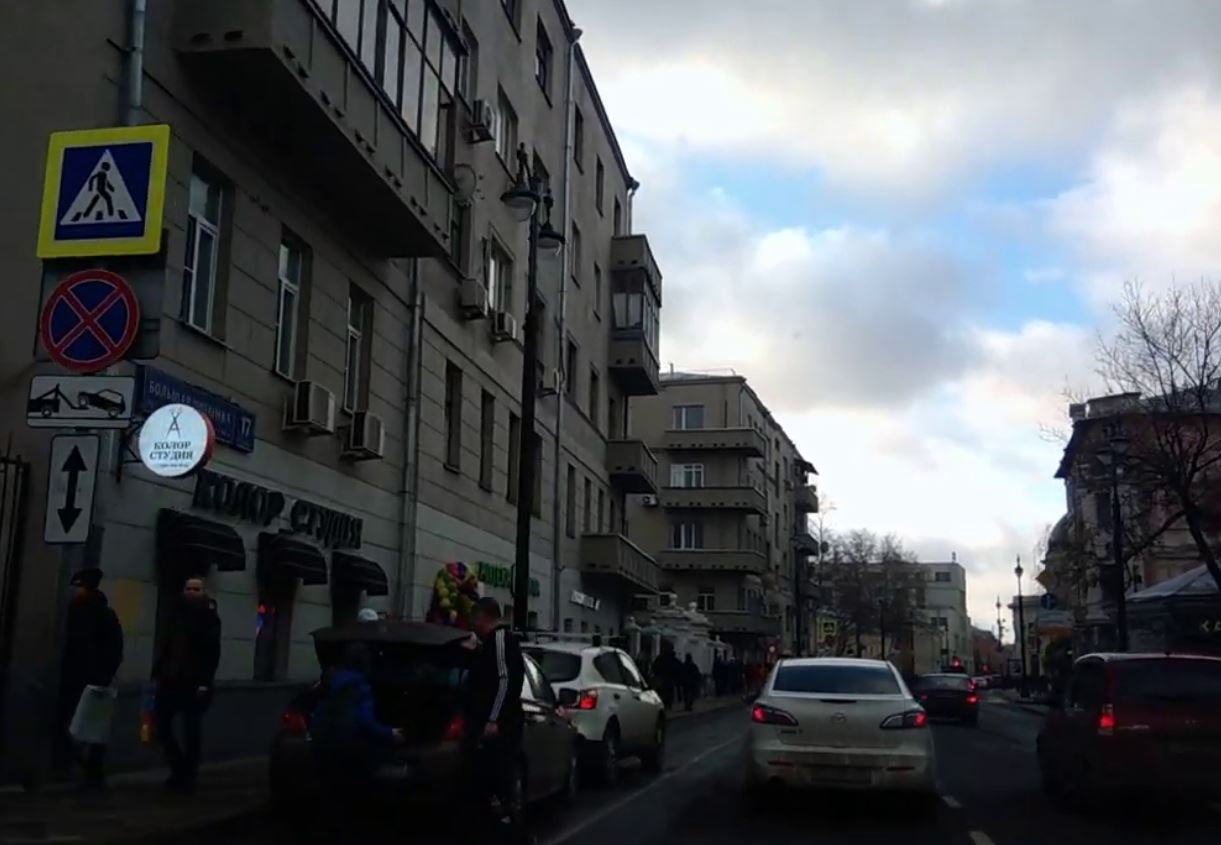Yaya Gecidi: (61, 142, 147, 235)
